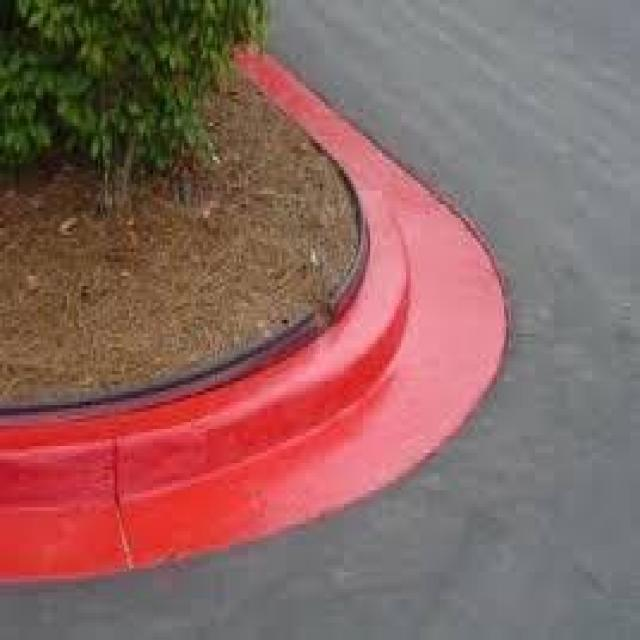curb: (107, 115, 507, 571)
